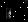person: (4, 9, 11, 20)
